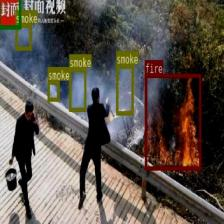fire: (144, 74, 201, 170)
smoke: (116, 64, 132, 114), (68, 67, 86, 111), (15, 23, 31, 50), (48, 80, 58, 100)
